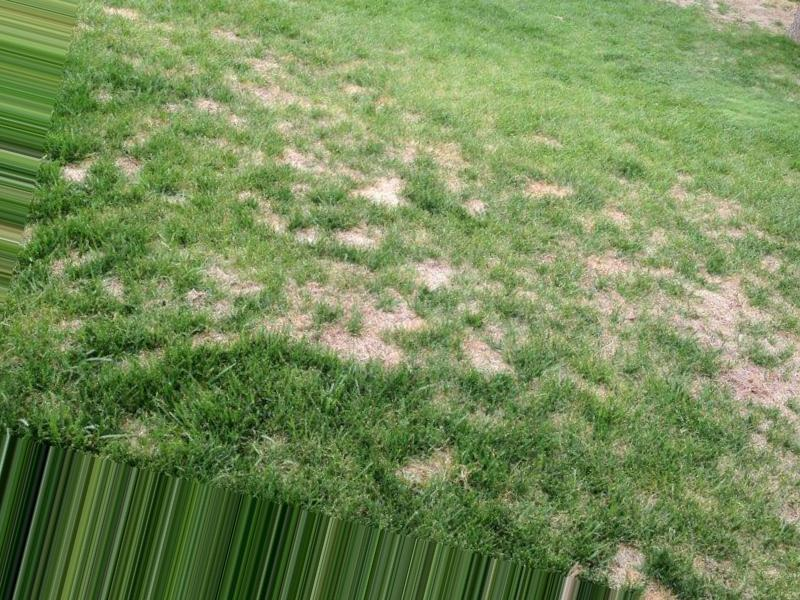patch: (598, 252, 762, 395), (267, 205, 404, 342), (303, 151, 404, 200), (451, 330, 506, 356)
